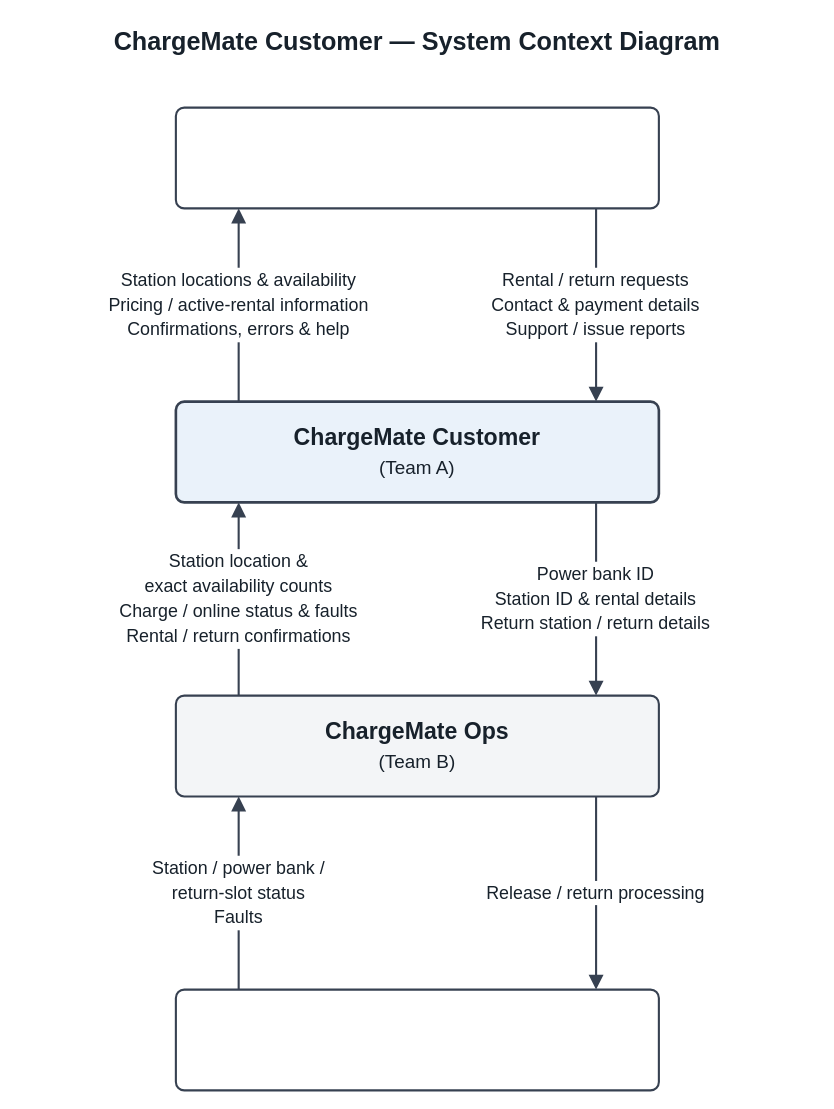
Image size: 834x1109. Some labels were removed from this diagram. The shapes that lost their labels are listed below. From the top down, each one's centre as x and y in pixels, then its label:
At [416,157]: "Customer".
At [416,1039]: "Rental Stations / Power Banks".
